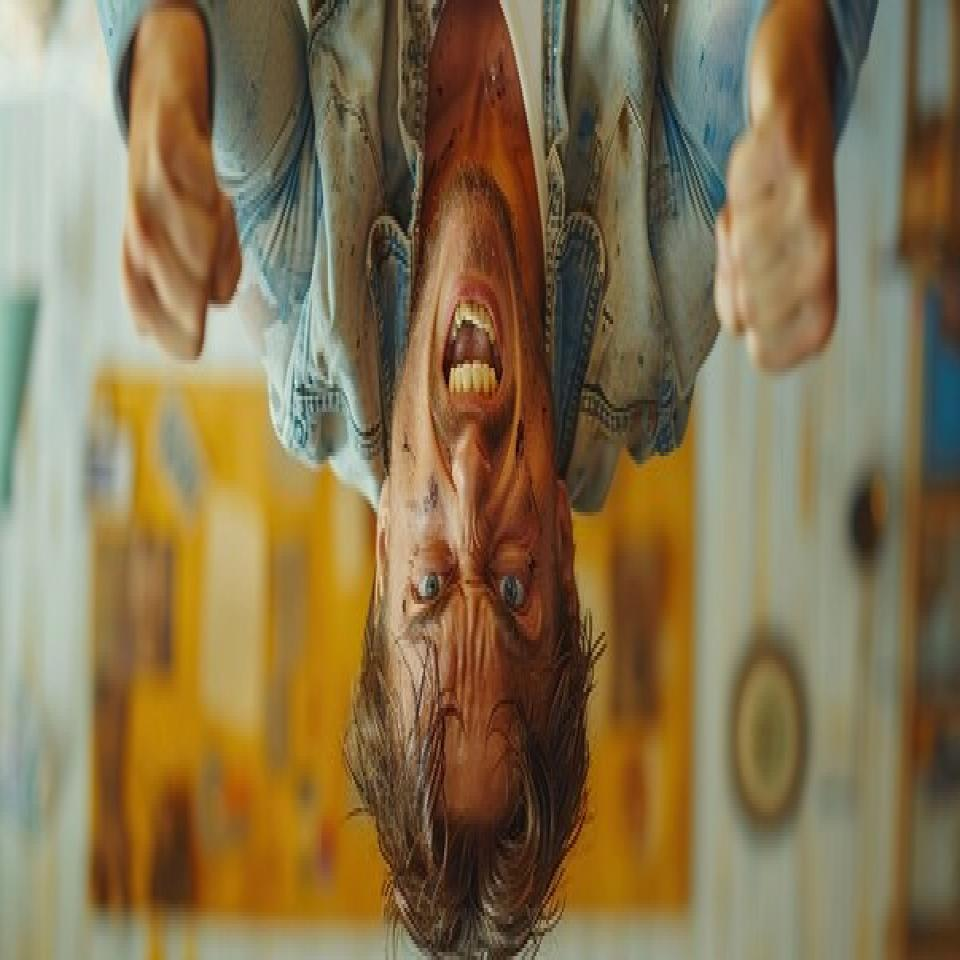Anger: (388, 190, 566, 804)
